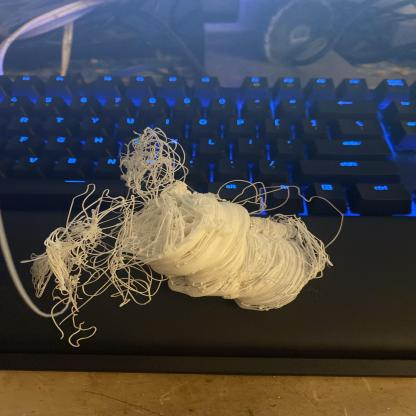fail: (24, 124, 346, 326)
